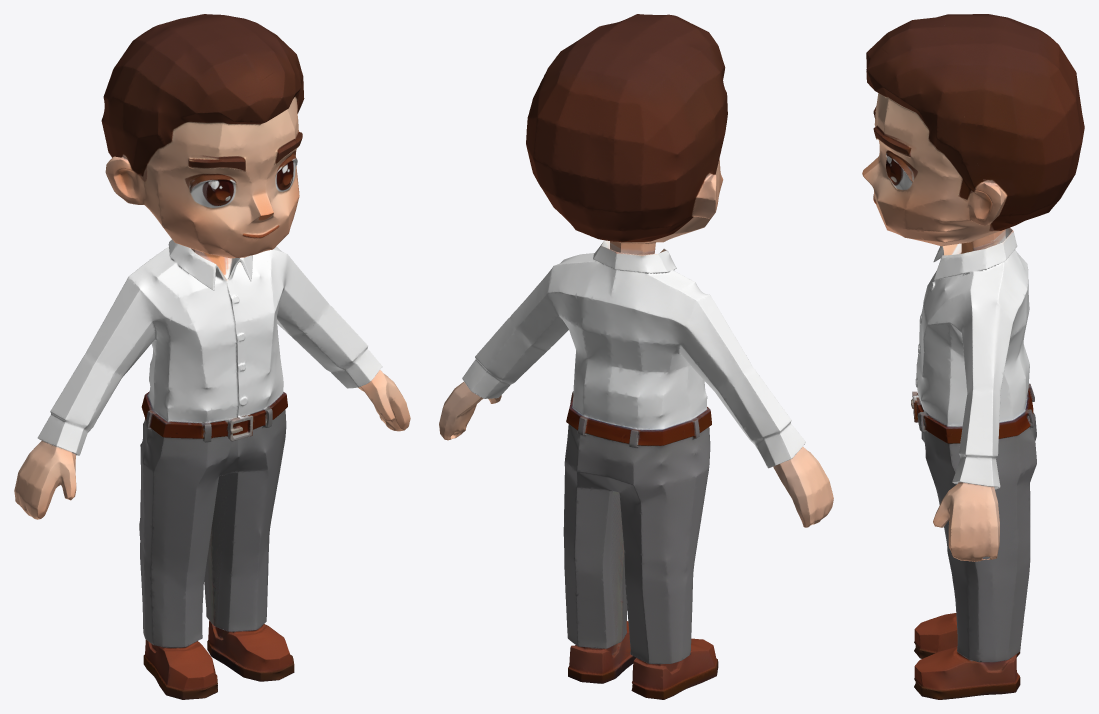
Rendered from char_namja_gajang_base.glb.
3 views of the same model, side by side, from view 1: azimuth 30°, elevation 25°; view 2: azimuth 150°, elevation 25°; view 3: azimuth 270°, elevation 25° (orthographic).
Bounding box in the file's own units: 1.05 × 1.7 × 0.5343.
1 material, 1 textured.
